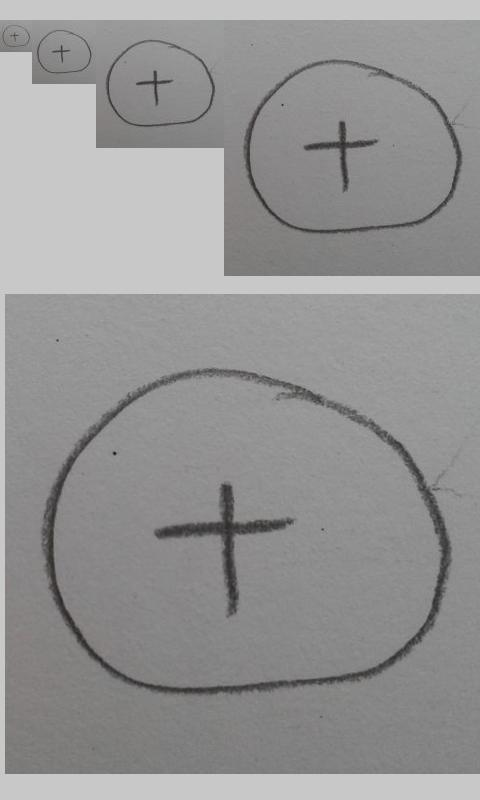button: (41, 366, 454, 697), (242, 57, 461, 235), (106, 39, 216, 128), (36, 29, 92, 74), (2, 24, 31, 48)
